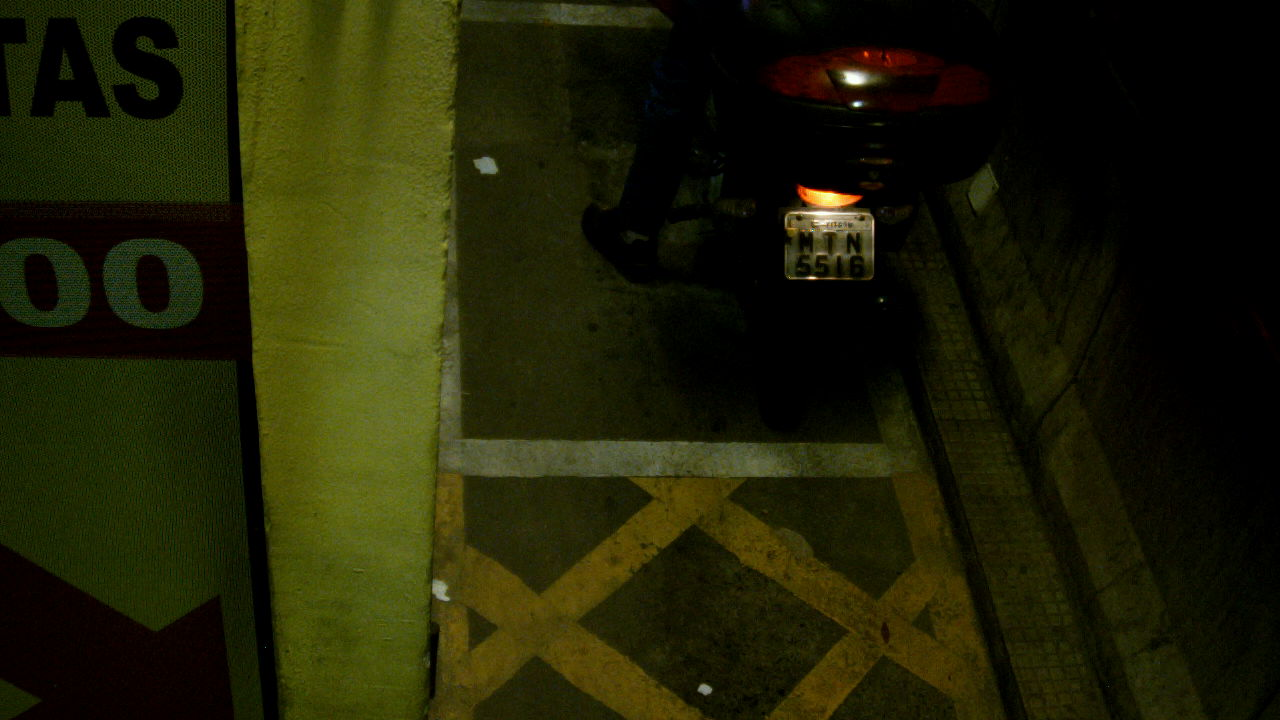placa: (785, 211, 875, 281)
